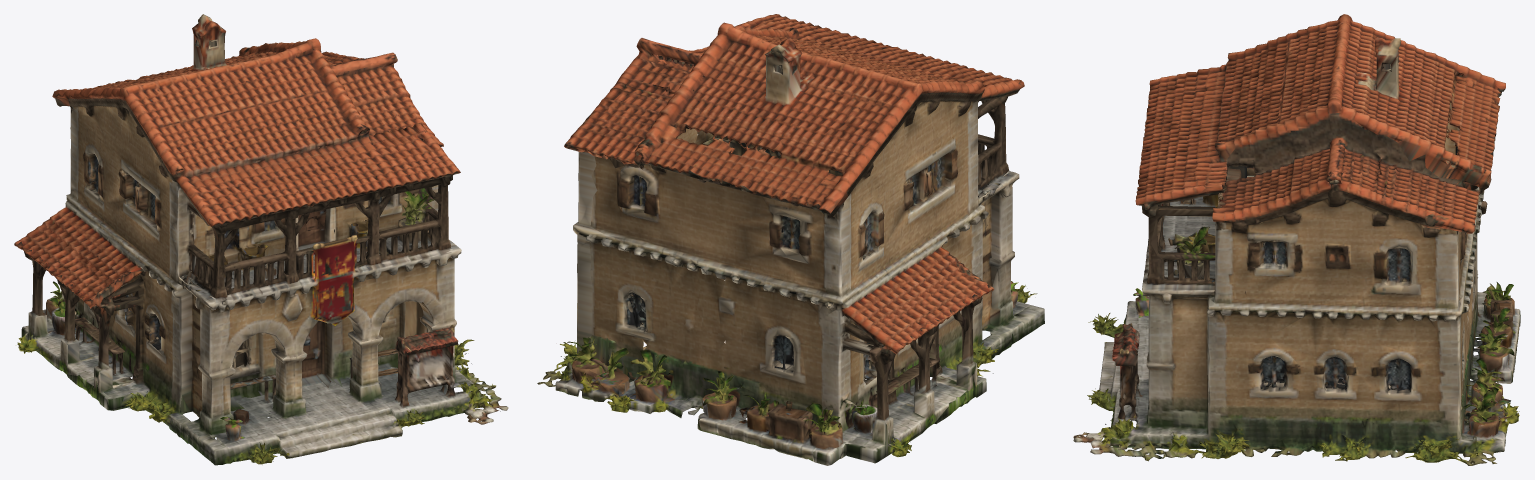
The model's file is SM_ConcejoDeRepoblacion.fbx.
The picture shows the model from 3 angles, left to right: view 1: azimuth 30°, elevation 25°; view 2: azimuth 150°, elevation 25°; view 3: azimuth 270°, elevation 25°; orthographic projection. The views are drawn at different scales.
Visible parts, largest first — view 1: SM_ConcejoDeRepoblacion; view 2: SM_ConcejoDeRepoblacion; view 3: SM_ConcejoDeRepoblacion.
Boxes of the visible parts, x1=… form: SM_ConcejoDeRepoblacion: x1=14, y1=14, x2=508, y2=465; SM_ConcejoDeRepoblacion: x1=537, y1=14, x2=1044, y2=465; SM_ConcejoDeRepoblacion: x1=1073, y1=14, x2=1520, y2=465.
Size of the model in its own units: 92.24 by 83.55 by 99.75.
1 material, 1 textured.
